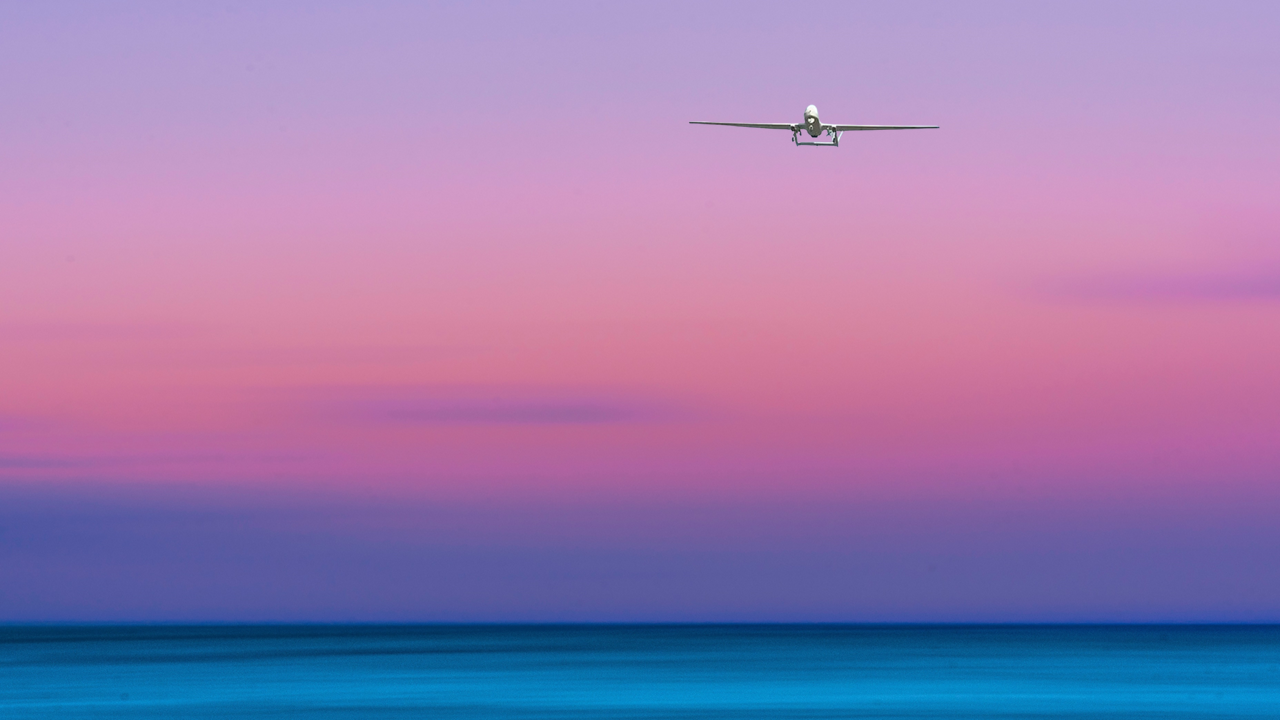military drone: (688, 103, 939, 146)
